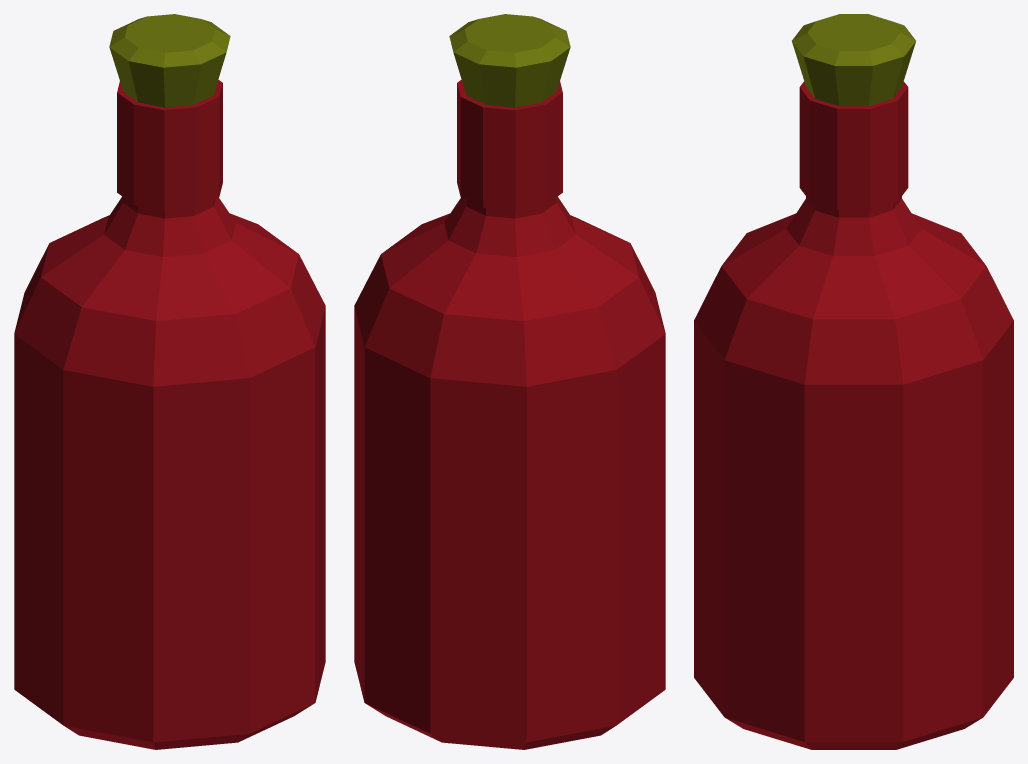
The model's file is _ottle_2.fbx.
3 renders of one model, left to right at view 1: azimuth 30°, elevation 25°; view 2: azimuth 150°, elevation 25°; view 3: azimuth 270°, elevation 25°, orthographic.
Visible parts, largest first — view 1: Cylinder.033; view 2: Cylinder.033; view 3: Cylinder.033.
Part boxes in pixels (left/top/right/bottom): Cylinder.033: left=14, top=14, right=325, bottom=749; Cylinder.033: left=354, top=14, right=665, bottom=749; Cylinder.033: left=694, top=14, right=1013, bottom=749.
Bounding box in the file's own units: 12.82 × 30.8 × 13.48.
